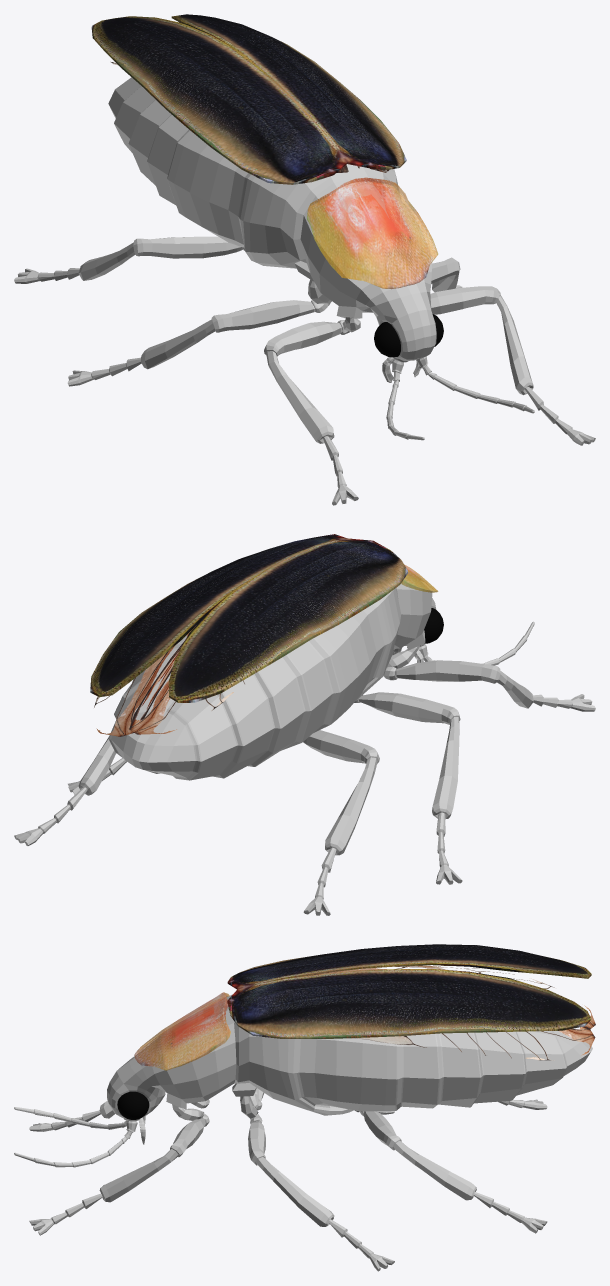
Rendered from fireflyfbx.fbx.
3 views of the same model, one above another, from view 1: azimuth 30°, elevation 25°; view 2: azimuth 150°, elevation 25°; view 3: azimuth 270°, elevation 25° (orthographic). The views are drawn at different scales.
Visible parts, largest first — view 1: body2:ZBrush_defualt_group, polySurface61, polySurface55, polySurface44, pSphere2; view 2: body2:ZBrush_defualt_group, polySurface61, polySurface44, Wings_L, Wings_L1; view 3: body2:ZBrush_defualt_group, polySurface44, polySurface61, polySurface55, Wings_L, pSphere1, Wings_L1.
Boxes of the visible parts, x1=… form: body2:ZBrush_defualt_group: x1=14, y1=77, x2=595, y2=505; polySurface61: x1=91, y1=16, x2=347, y2=184; polySurface55: x1=307, y1=177, x2=438, y2=289; polySurface44: x1=171, y1=14, x2=406, y2=169; pSphere2: x1=374, y1=322, x2=400, y2=357; body2:ZBrush_defualt_group: x1=14, y1=573, x2=595, y2=915; polySurface61: x1=168, y1=538, x2=407, y2=702; polySurface44: x1=90, y1=534, x2=346, y2=697; Wings_L: x1=94, y1=625, x2=196, y2=736; Wings_L1: x1=129, y1=639, x2=244, y2=734; body2:ZBrush_defualt_group: x1=14, y1=994, x2=592, y2=1271; polySurface44: x1=227, y1=969, x2=591, y2=1038; polySurface61: x1=227, y1=944, x2=591, y2=989; polySurface55: x1=134, y1=992, x2=230, y2=1070; Wings_L: x1=352, y1=1027, x2=595, y2=1060; pSphere1: x1=117, y1=1091, x2=149, y2=1119; Wings_L1: x1=307, y1=965, x2=595, y2=1029.
Bounding box in the file's own units: 3.64 × 2.35 × 5.46.
